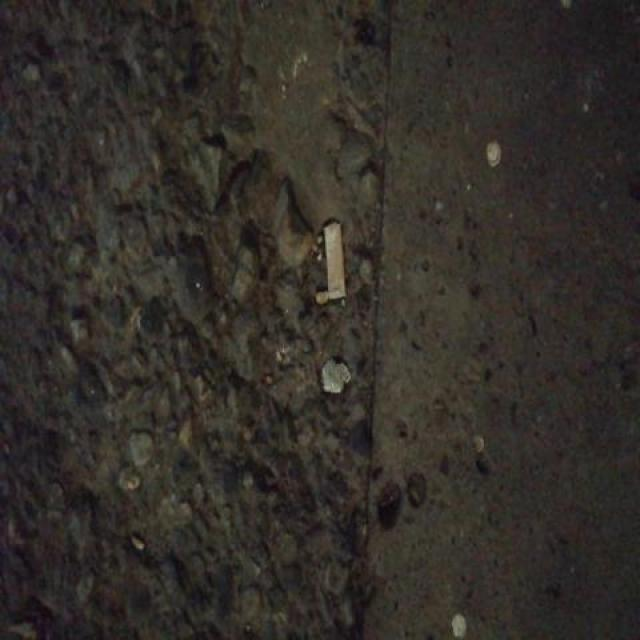non-organic waste: (320, 217, 352, 303)
